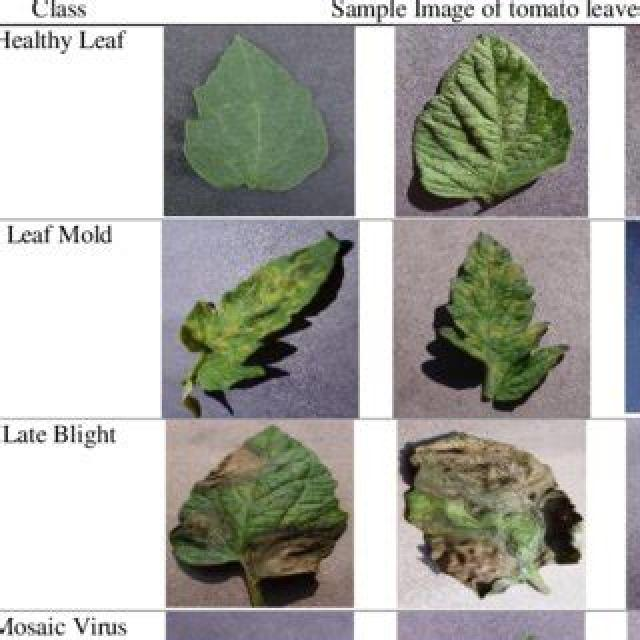blight: (405, 436, 522, 542), (207, 442, 269, 493)
